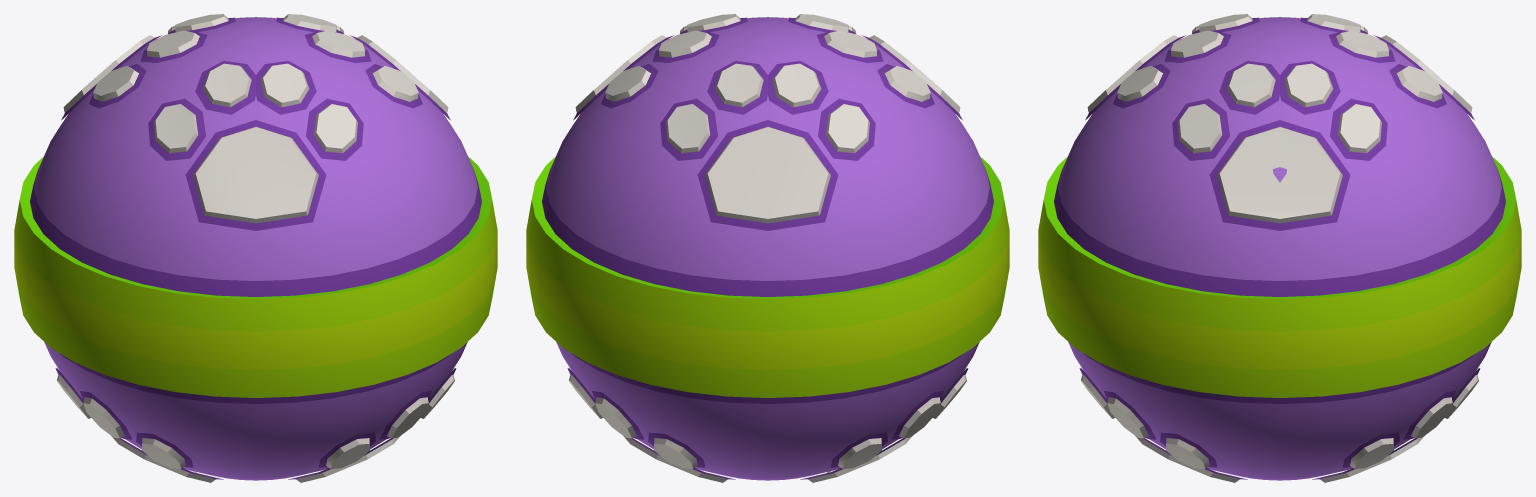
The model's file is top.glb.
3 views of the same model, side by side, from view 1: azimuth 30°, elevation 25°; view 2: azimuth 150°, elevation 25°; view 3: azimuth 270°, elevation 25° (orthographic).
Visible parts, largest first — view 1: top; view 2: top; view 3: top.
Part boxes in pixels (bbox=[...]): top: bbox=[14, 14, 497, 482]; top: bbox=[526, 14, 1009, 482]; top: bbox=[1038, 14, 1521, 482].
Bounding box in the file's own units: 2.08 × 2 × 2.08.
